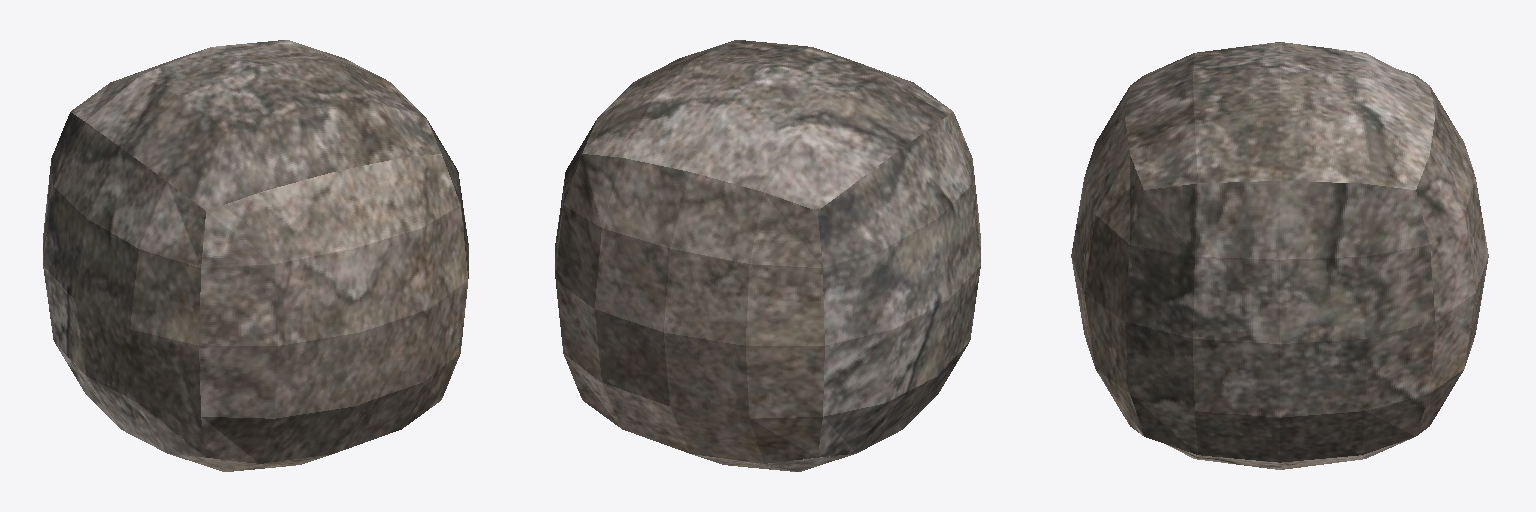
3 views of the same model, side by side, from view 1: azimuth 30°, elevation 25°; view 2: azimuth 150°, elevation 25°; view 3: azimuth 270°, elevation 25° (orthographic).
Parts seen in each view (by area): view 1: asteroid4_Cube; view 2: asteroid4_Cube; view 3: asteroid4_Cube.
Part boxes in pixels (x1,y1,x2,y2): asteroid4_Cube: (43,40,468,471); asteroid4_Cube: (555,40,980,471); asteroid4_Cube: (1071,42,1488,469).
Bounding box in the file's own units: 2.07 × 2.07 × 2.07.
1 materials, 1 textured.